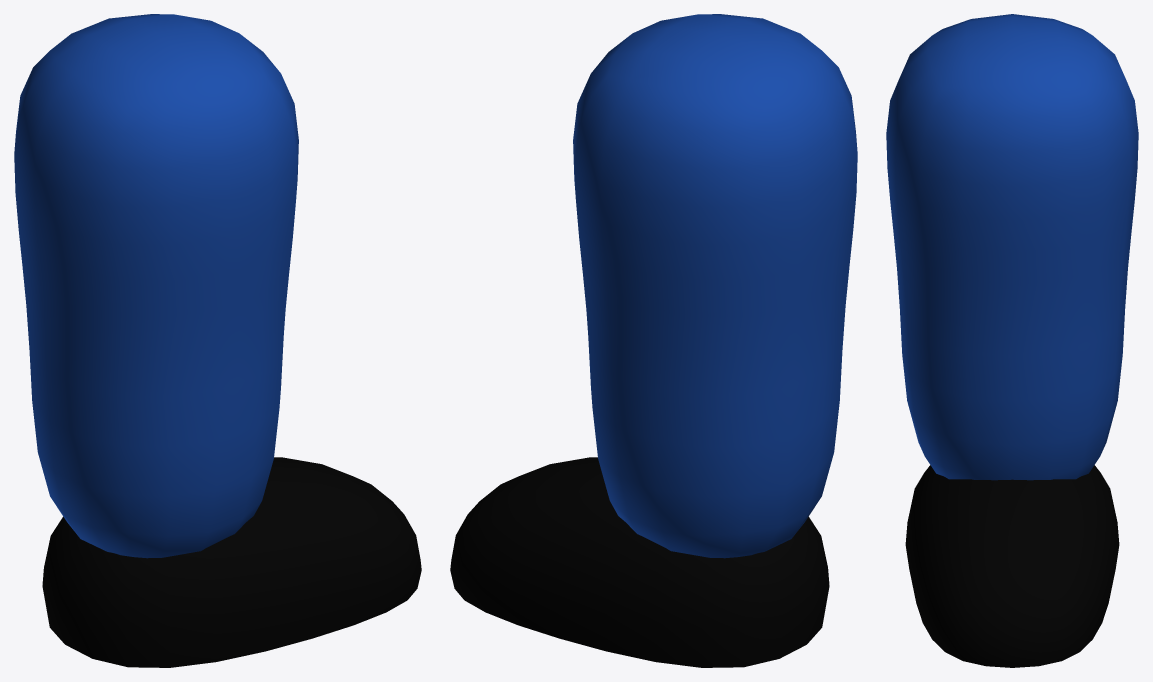
File: farmer_leg.glb
3 views of the same model, side by side, from view 1: azimuth 30°, elevation 25°; view 2: azimuth 150°, elevation 25°; view 3: azimuth 270°, elevation 25° (orthographic). The views are drawn at different scales.
Visible parts, largest first — view 1: Cube.011; view 2: Cube.011; view 3: Cube.011.
Part boxes in pixels (x1,y1,x2,y2): Cube.011: [14, 14, 421, 667]; Cube.011: [450, 14, 857, 667]; Cube.011: [886, 14, 1138, 667].
Bounding box in the file's own units: 0.7197 × 1.08 × 0.4701.
